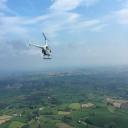helicopter: (29, 34, 54, 60)
